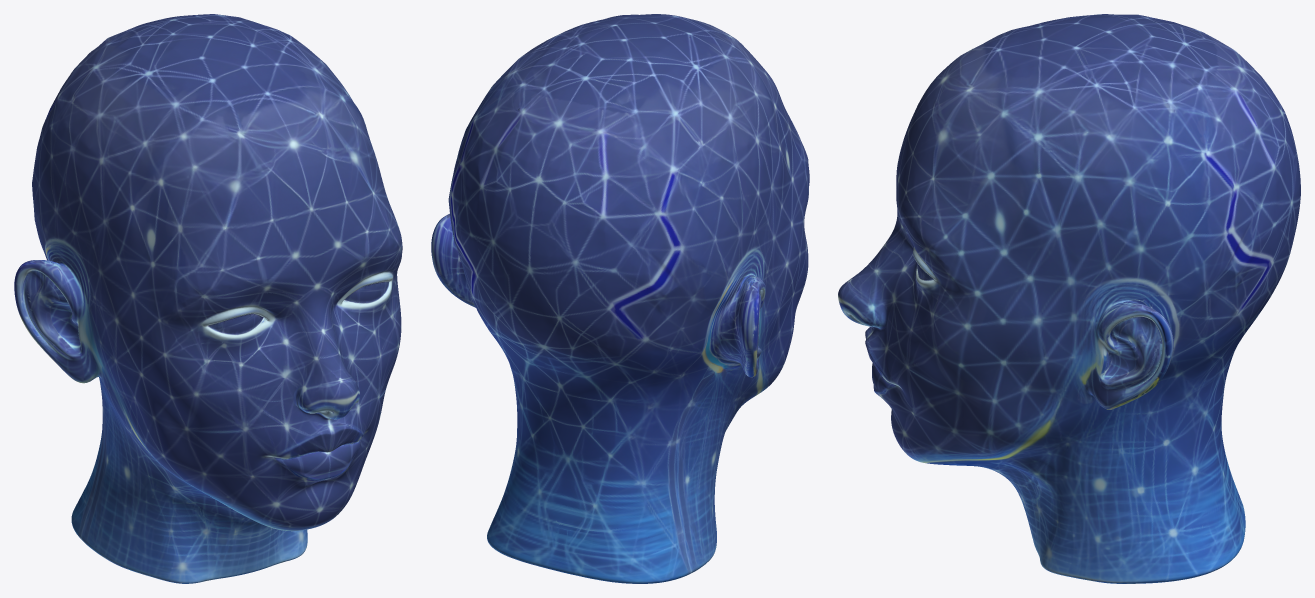
Rendered from ai_assistant.glb.
3 renders of one model, left to right at view 1: azimuth 30°, elevation 25°; view 2: azimuth 150°, elevation 25°; view 3: azimuth 270°, elevation 25°, orthographic. The views are drawn at different scales.
Bounding box in the file's own units: 1.3 × 1.9 × 1.56.
1 material, 1 textured.
